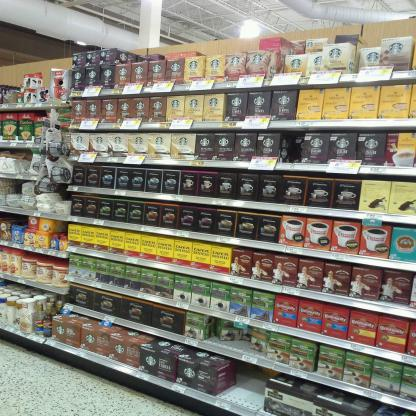Void: (225, 362, 268, 403), (281, 130, 304, 162)
